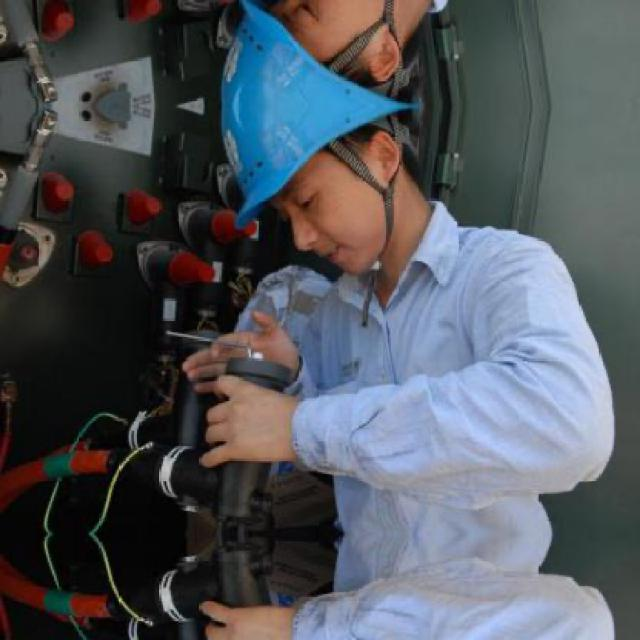helmet: (209, 105, 442, 282), (209, 0, 443, 106)
